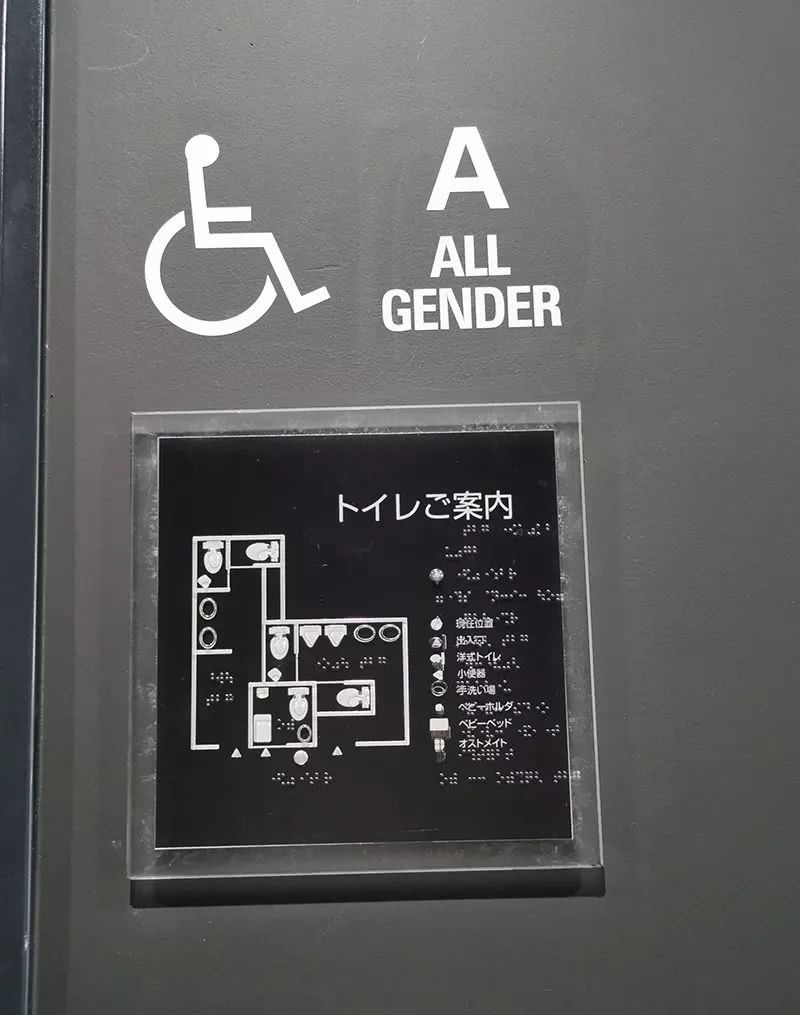Braille: (493, 679, 503, 695), (295, 772, 305, 787), (508, 522, 518, 537), (524, 770, 534, 785), (493, 655, 503, 670), (502, 679, 512, 694), (464, 679, 474, 694), (498, 522, 507, 538), (553, 769, 562, 785), (267, 772, 277, 786), (285, 772, 295, 786), (323, 772, 333, 786), (517, 522, 527, 536), (472, 545, 482, 559), (489, 567, 499, 581), (536, 588, 546, 602), (477, 772, 487, 786), (495, 771, 505, 785), (534, 770, 544, 784), (457, 725, 467, 739), (215, 671, 224, 686), (215, 693, 224, 708), (224, 693, 233, 708), (563, 770, 572, 785), (483, 679, 492, 694), (455, 679, 464, 694), (224, 671, 234, 684), (453, 546, 463, 559), (471, 568, 481, 581), (286, 718, 295, 732), (305, 772, 314, 786), (480, 524, 489, 538), (545, 522, 554, 536), (527, 522, 536, 536), (463, 545, 472, 559), (481, 589, 490, 603), (518, 589, 527, 603), (546, 588, 555, 602), (555, 588, 564, 602), (467, 772, 476, 786), (506, 771, 515, 785), (515, 770, 524, 784), (523, 724, 532, 738), (533, 724, 542, 738), (514, 724, 523, 738), (501, 633, 510, 647), (512, 656, 521, 670), (502, 656, 511, 670), (378, 655, 386, 670), (476, 749, 486, 761), (519, 634, 529, 646), (314, 772, 323, 785), (322, 657, 331, 670), (312, 657, 321, 670), (331, 657, 340, 670), (340, 657, 349, 670), (462, 524, 471, 537), (444, 546, 453, 559), (462, 568, 471, 581), (453, 568, 462, 581), (480, 568, 489, 581), (499, 567, 508, 580), (508, 567, 517, 580), (435, 591, 444, 604), (509, 589, 518, 602), (463, 612, 472, 625), (472, 612, 481, 625), (491, 613, 500, 626), (439, 772, 448, 785), (449, 772, 458, 785), (572, 771, 581, 784), (505, 748, 514, 761), (486, 748, 495, 761), (467, 748, 476, 761), (458, 748, 467, 761), (541, 701, 550, 714), (522, 701, 531, 714), (541, 724, 550, 737), (485, 725, 494, 738), (476, 725, 485, 738), (467, 725, 476, 738), (473, 680, 482, 693), (474, 657, 483, 670), (483, 656, 492, 669), (207, 672, 215, 686), (206, 693, 214, 707), (277, 718, 285, 732), (277, 772, 285, 786), (359, 655, 367, 669), (369, 656, 377, 670), (463, 590, 471, 604), (513, 701, 521, 715), (453, 591, 462, 603), (495, 726, 504, 738), (483, 635, 492, 647), (474, 635, 483, 647), (465, 657, 474, 669), (485, 703, 494, 715), (472, 524, 480, 537), (536, 522, 544, 535), (491, 589, 499, 602), (500, 590, 508, 603), (501, 612, 509, 625), (496, 748, 504, 761), (532, 701, 540, 714), (552, 724, 560, 737), (445, 591, 453, 603), (482, 613, 490, 625), (510, 612, 518, 624), (454, 613, 462, 624), (511, 634, 519, 645)
